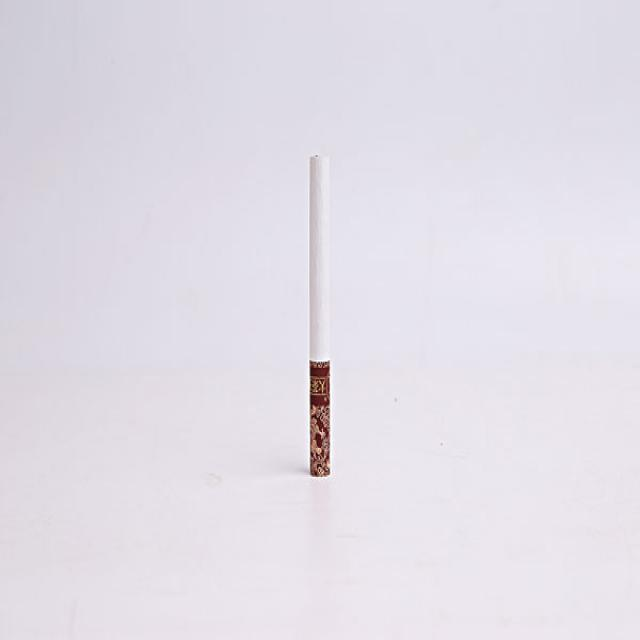cigarette: (307, 154, 331, 480)
